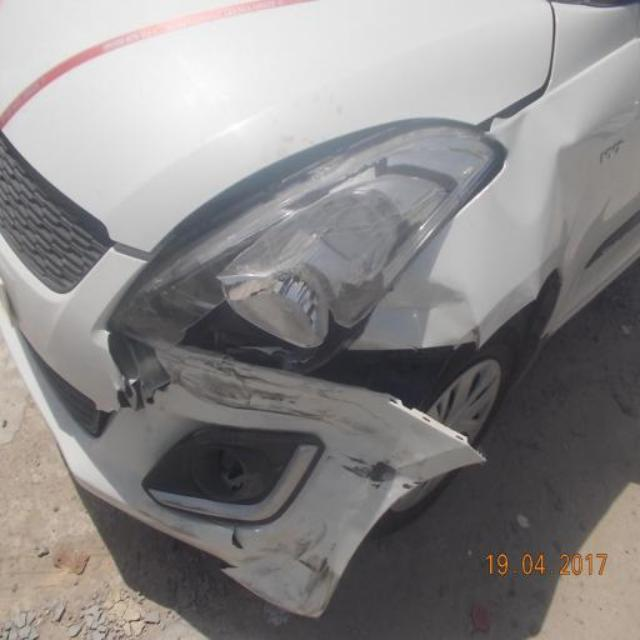crack: (227, 511, 346, 620), (93, 332, 172, 436), (337, 445, 409, 492), (231, 524, 245, 554)
dent: (533, 126, 614, 280), (365, 275, 480, 351)
dislocated part: (177, 341, 483, 458)
lamp broken: (177, 245, 369, 365), (141, 440, 309, 515)
rub: (159, 357, 395, 441)
